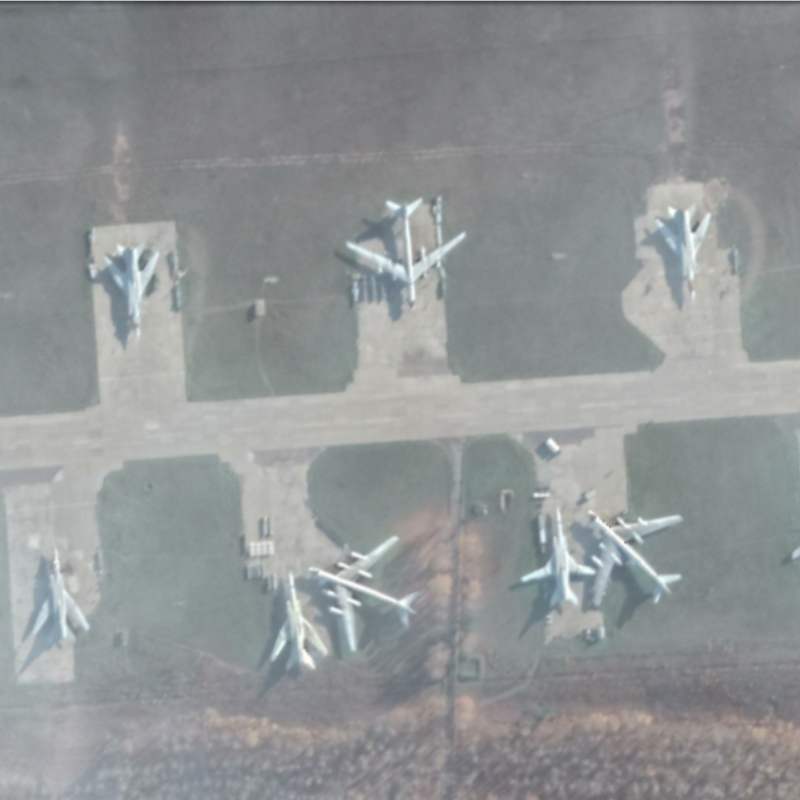A12: (518, 505, 600, 608), (268, 567, 330, 672), (30, 544, 92, 646), (652, 200, 713, 301), (101, 240, 161, 340)
A17: (305, 533, 424, 654), (344, 195, 468, 311), (585, 508, 686, 609)
